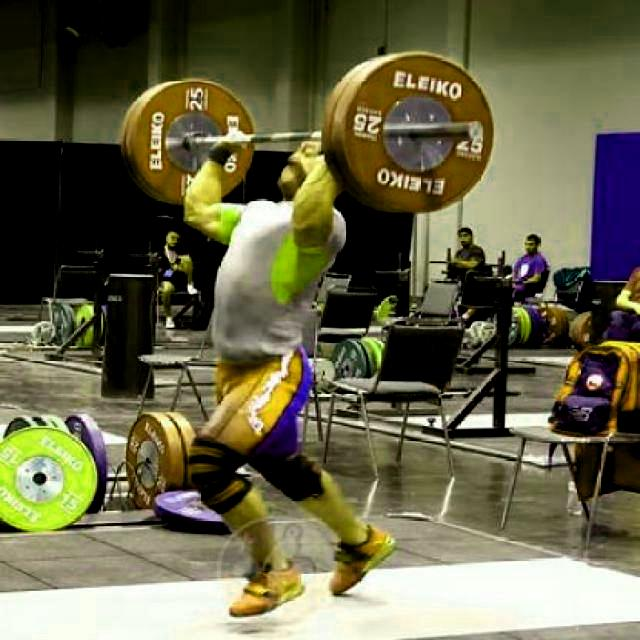barbell: (318, 46, 500, 217)
